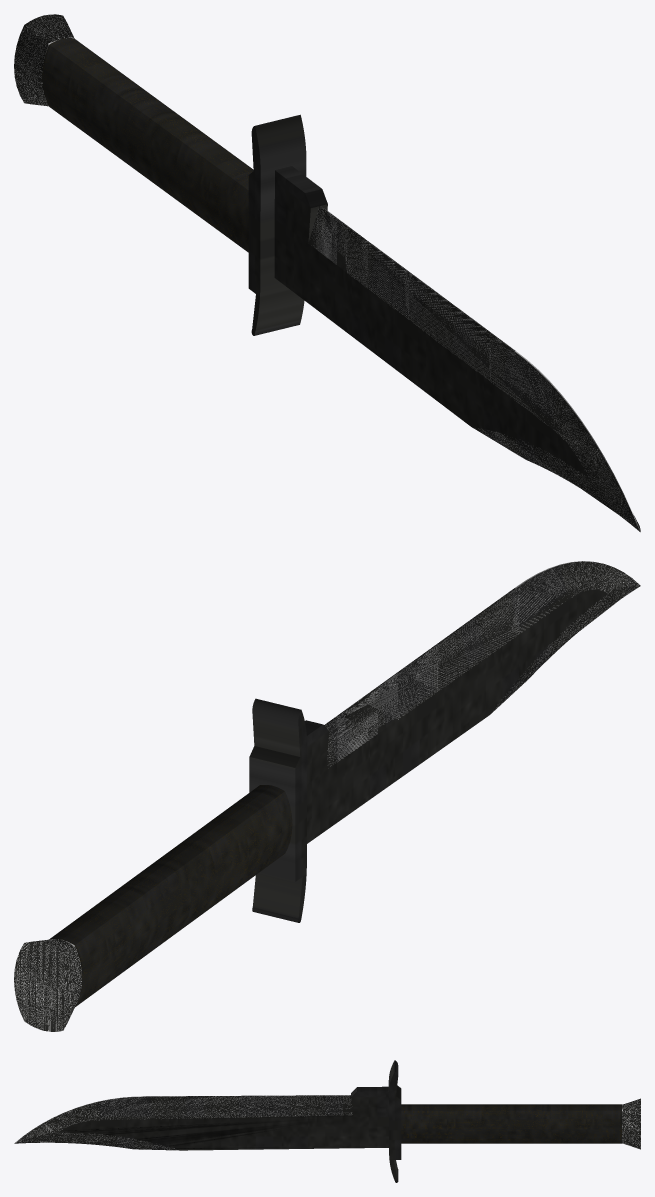
The model's file is model_scale.obj.
The picture shows the model from 3 angles, top to bottom: view 1: azimuth 30°, elevation 25°; view 2: azimuth 150°, elevation 25°; view 3: azimuth 270°, elevation 25°; orthographic projection. The views are drawn at different scales.
Visible parts, largest first — view 1: mesh1_mesh1-geometry; view 2: mesh1_mesh1-geometry; view 3: mesh1_mesh1-geometry.
Part boxes in pixels (box(x1,y1,x2,y2)): mesh1_mesh1-geometry: box(14, 14, 640, 532); mesh1_mesh1-geometry: box(14, 561, 640, 1031); mesh1_mesh1-geometry: box(14, 1060, 640, 1182).
Size of the model in its own units: 0.0118 by 0.0402 by 0.2058.
